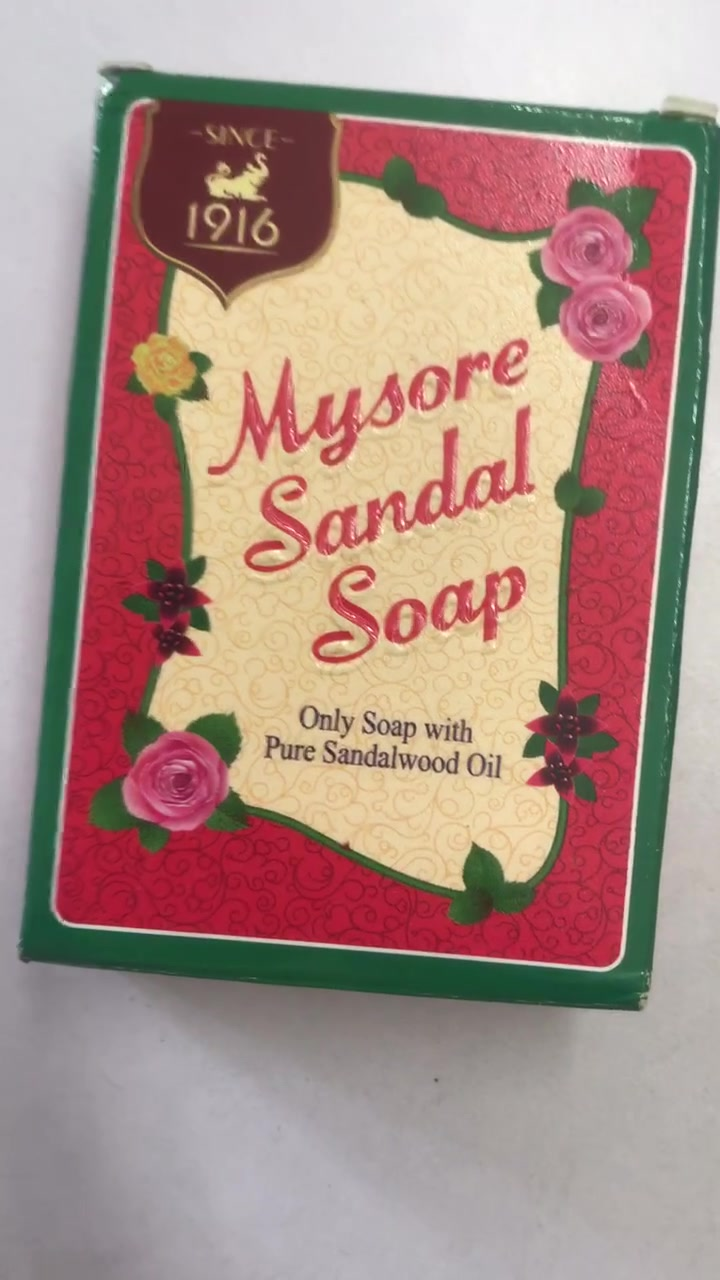mysore sandal soap: (14, 71, 720, 1007)
